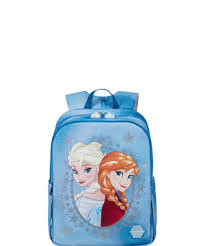bag: (44, 91, 163, 246)
